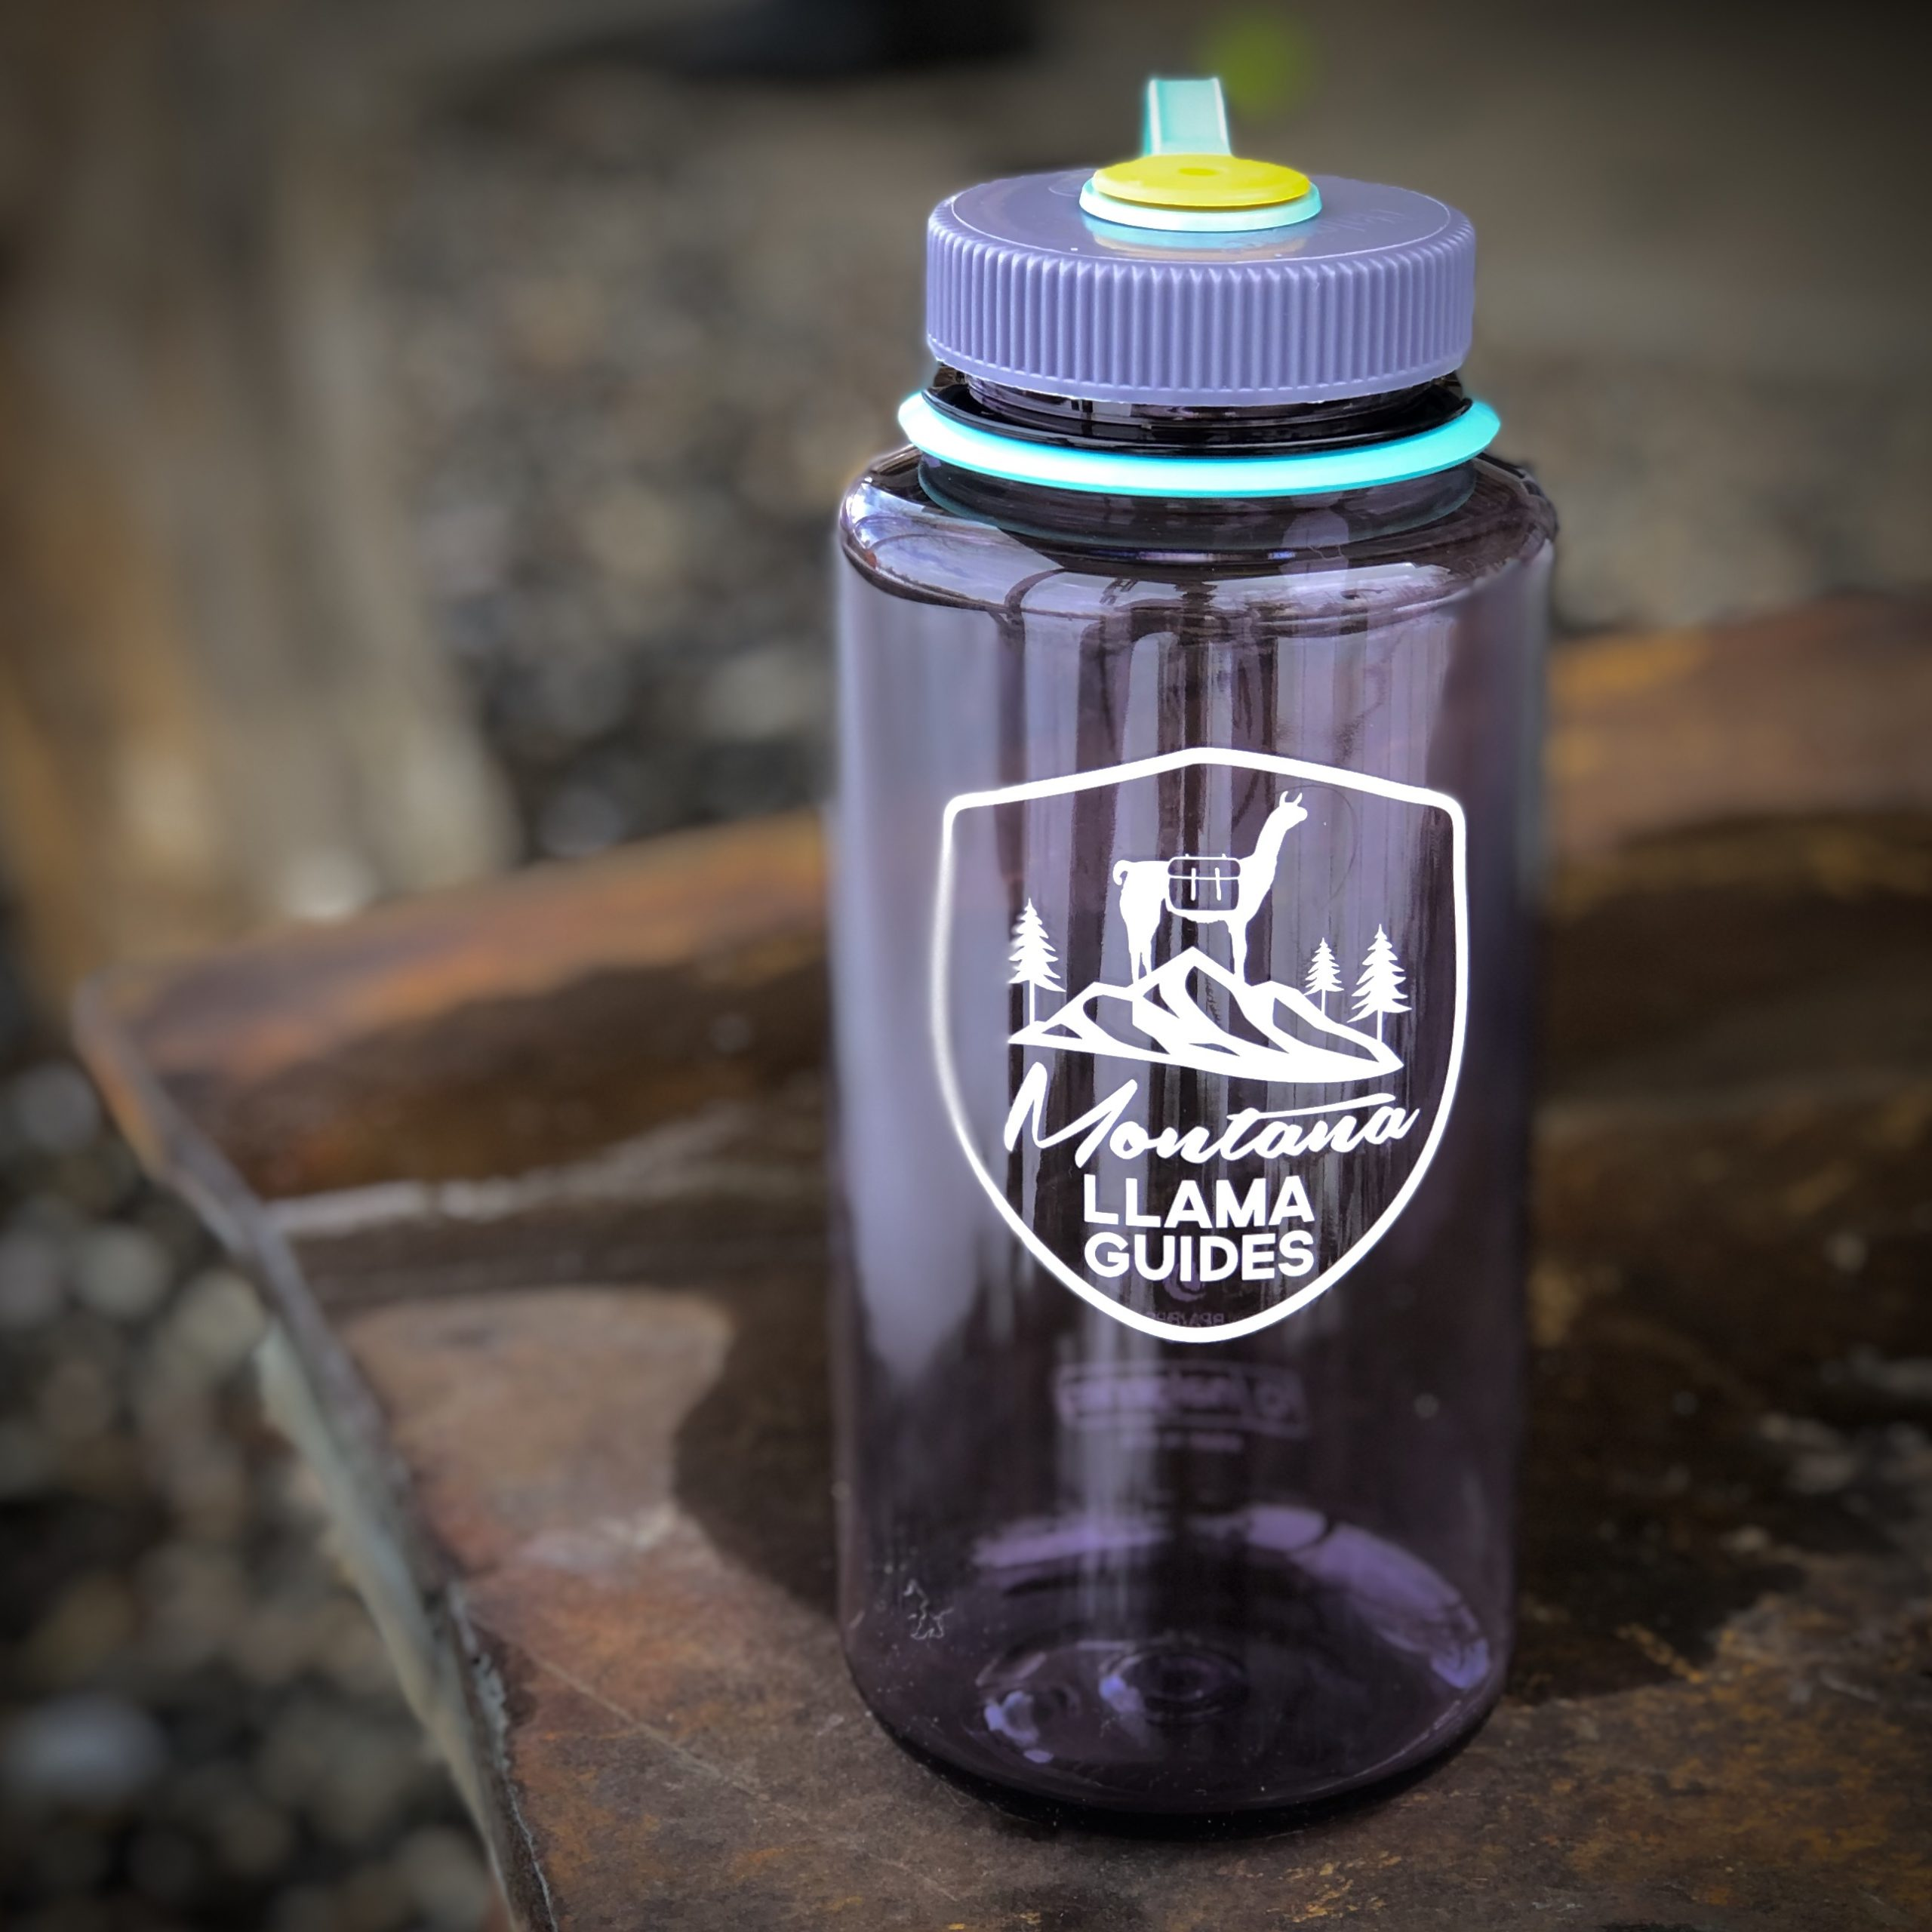waterbottle: (821, 71, 1560, 1838)
